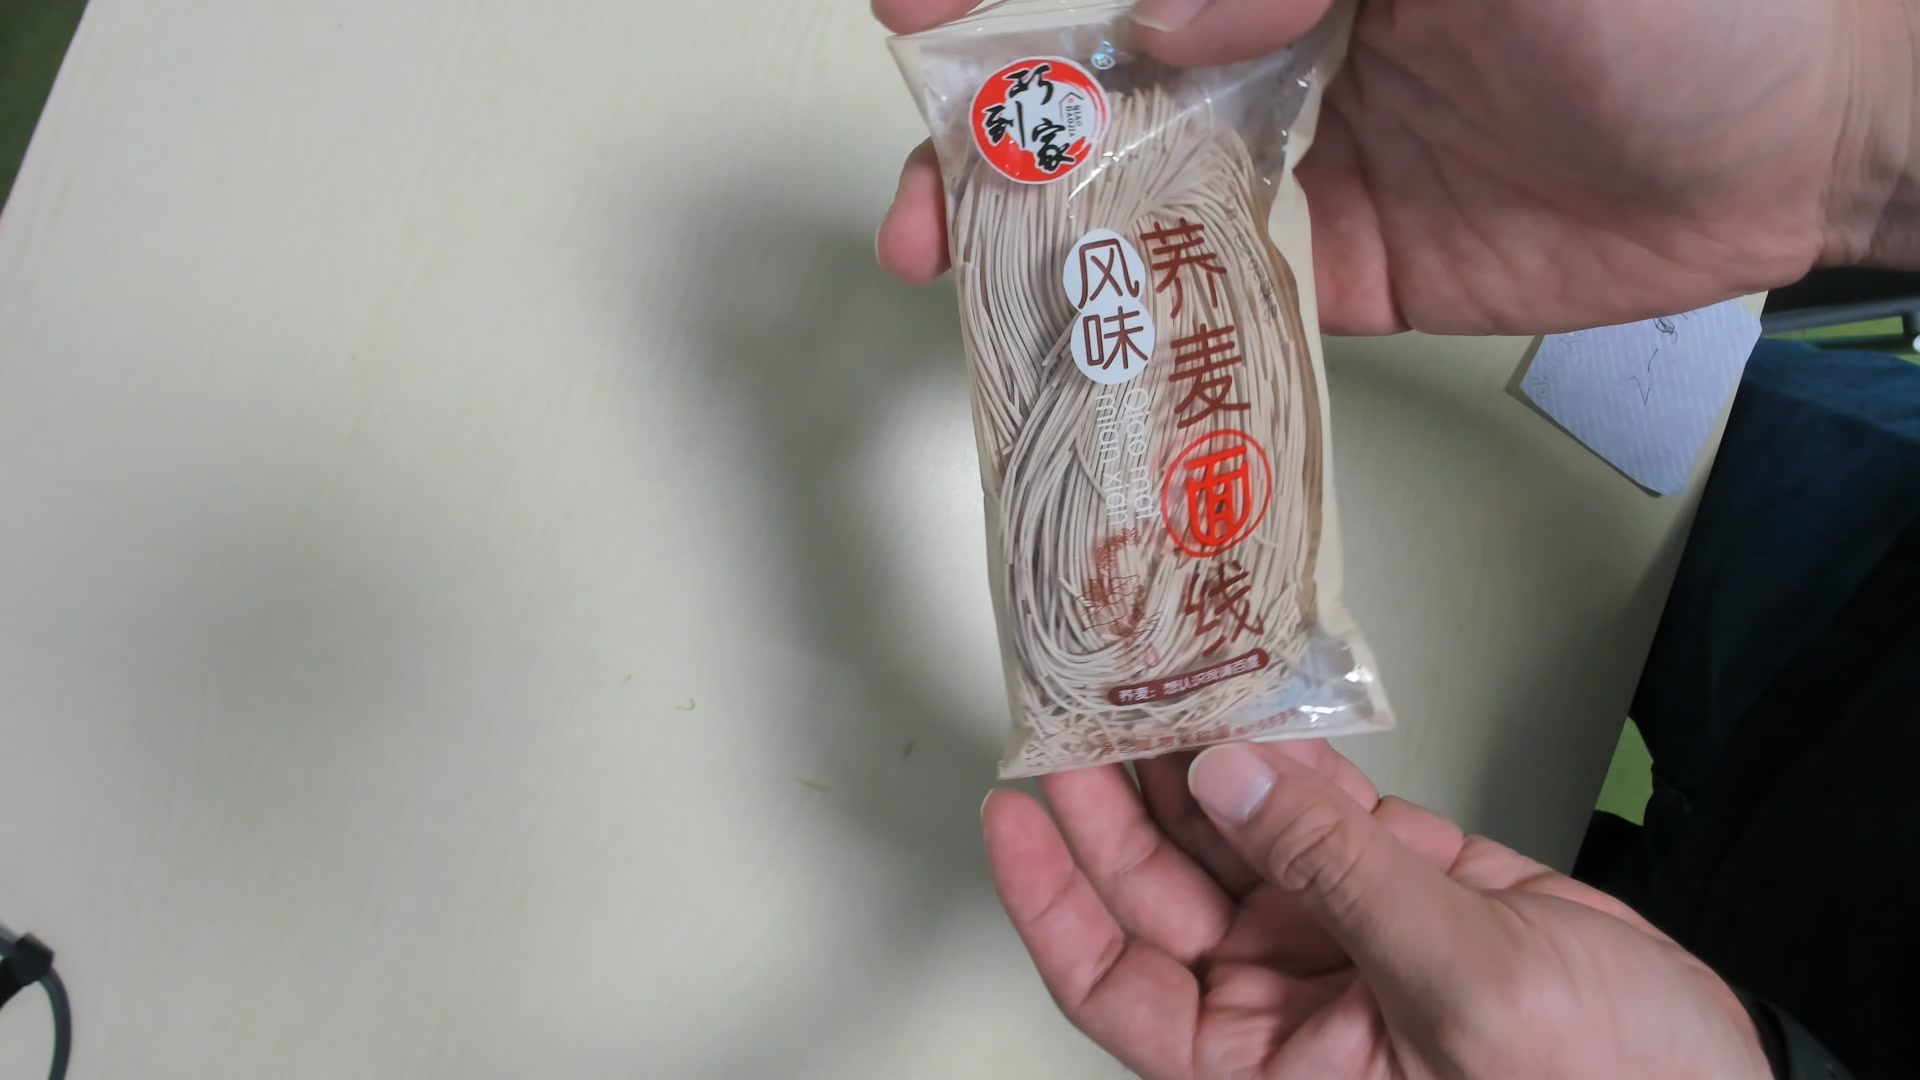BeeHoonVermicelli_0-99g_NonHalal_NonHealthy: (895, 18, 1379, 767)
